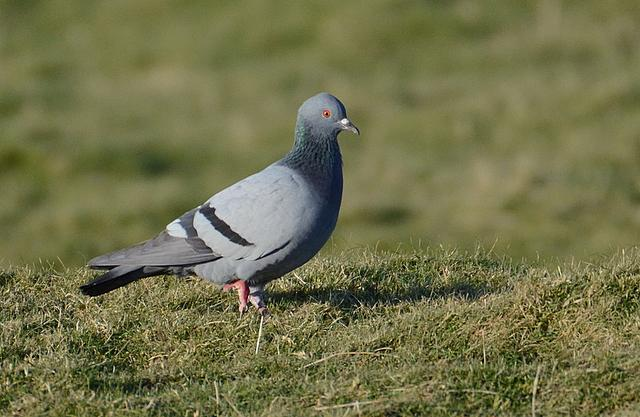Flying Rat: (80, 86, 361, 313)
